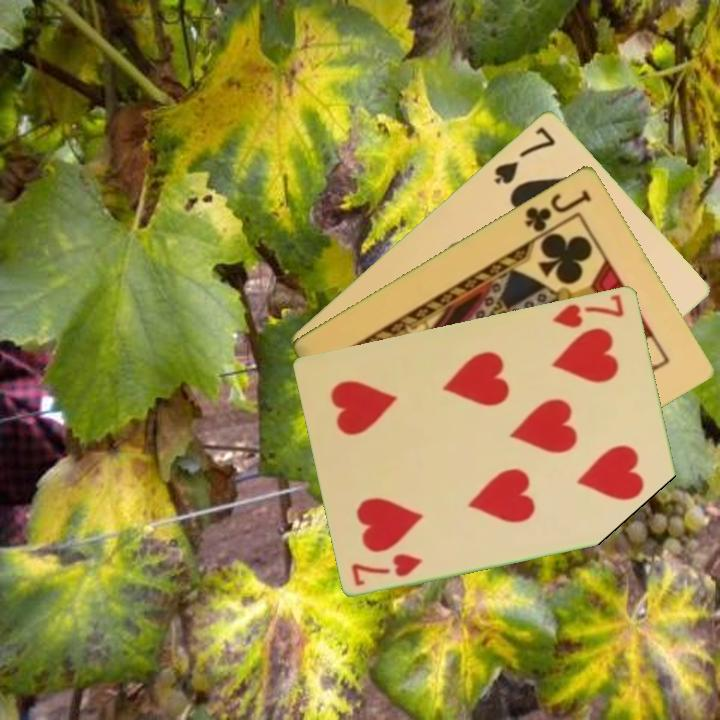7h: (549, 290, 627, 331), (348, 549, 425, 589)
7s: (490, 122, 558, 187)
Jc: (521, 185, 595, 235)
